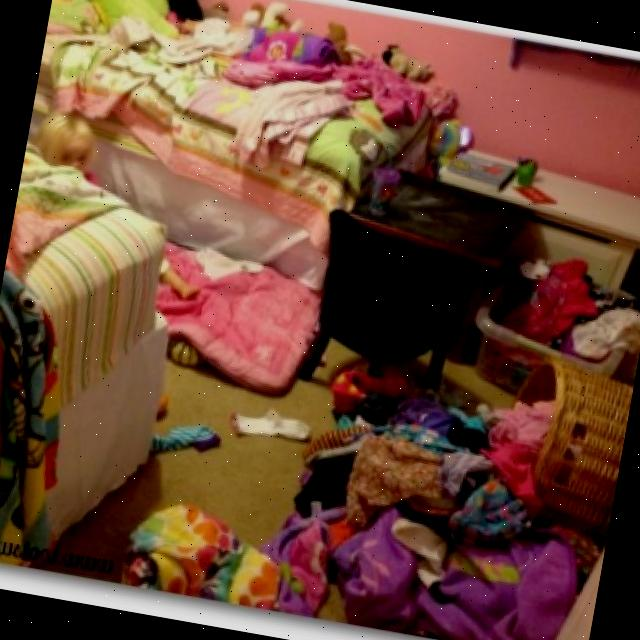mess: (242, 408, 556, 640), (32, 17, 382, 166), (318, 342, 560, 467), (88, 497, 299, 614), (401, 110, 574, 209), (216, 394, 312, 452), (146, 418, 226, 476)
messy_bed: (26, 0, 448, 276)
